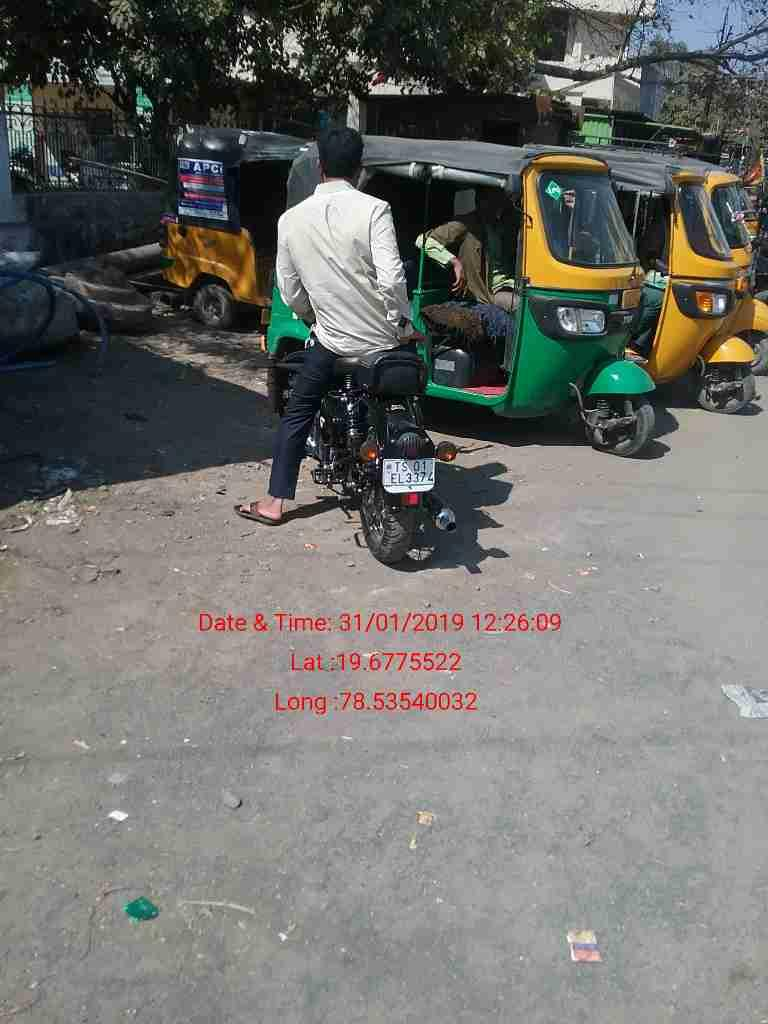plate: (382, 452, 441, 497)
